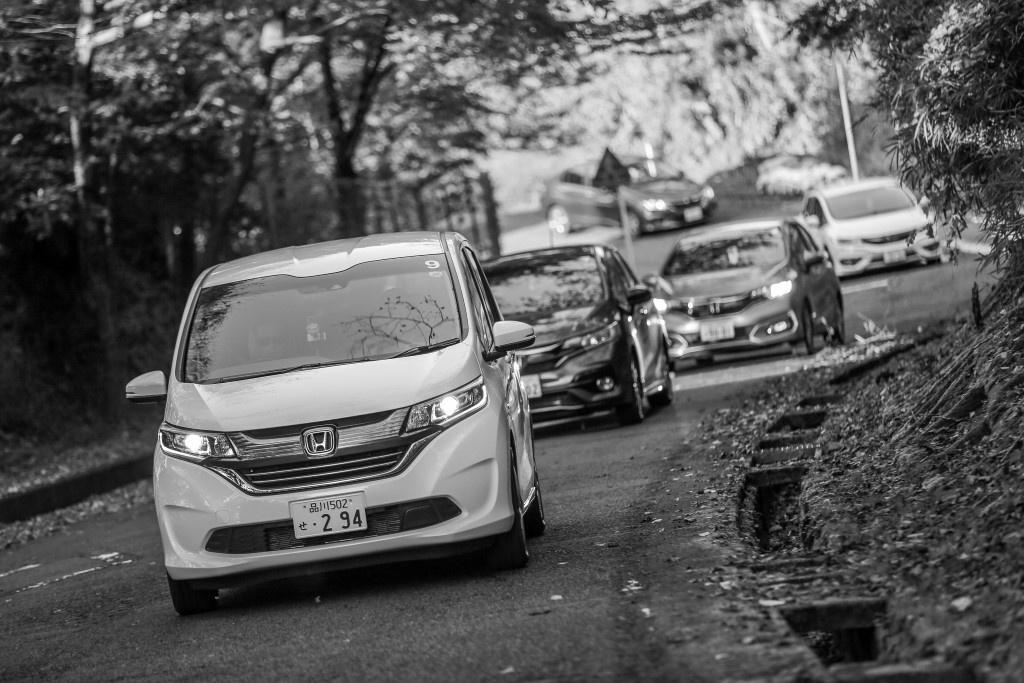Car hood: (160, 330, 482, 442), (652, 258, 789, 300), (515, 298, 618, 352), (829, 202, 935, 240)
Front bumper: (145, 390, 512, 590), (667, 295, 817, 365), (520, 339, 633, 429), (829, 223, 947, 277)
Headlight - -L-: (392, 371, 491, 439), (560, 309, 625, 359), (740, 265, 803, 312)
Headlight - -R-: (158, 423, 244, 463)
Side mirror - -L-: (481, 312, 540, 374), (793, 248, 830, 278), (615, 287, 656, 311)
Side mirror - -R-: (123, 365, 168, 404)
